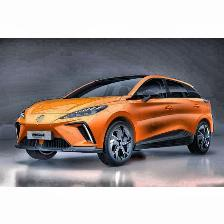EV: (16, 74, 215, 168)
